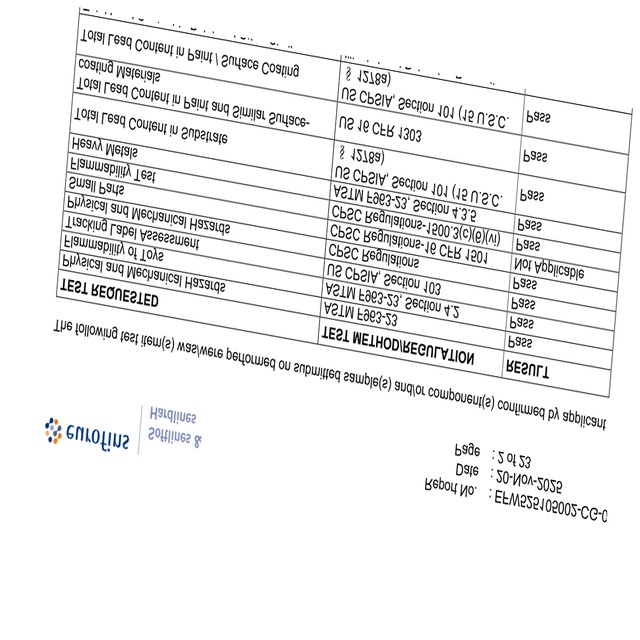eurofins: (42, 416, 129, 460)
